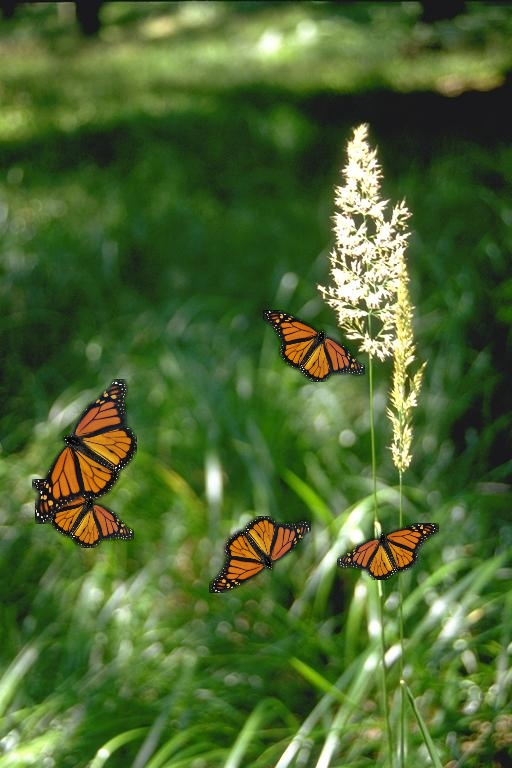danaus_plexippus: (35, 379, 137, 524), (209, 516, 311, 593), (263, 310, 365, 382), (32, 479, 134, 548), (337, 523, 439, 580)
